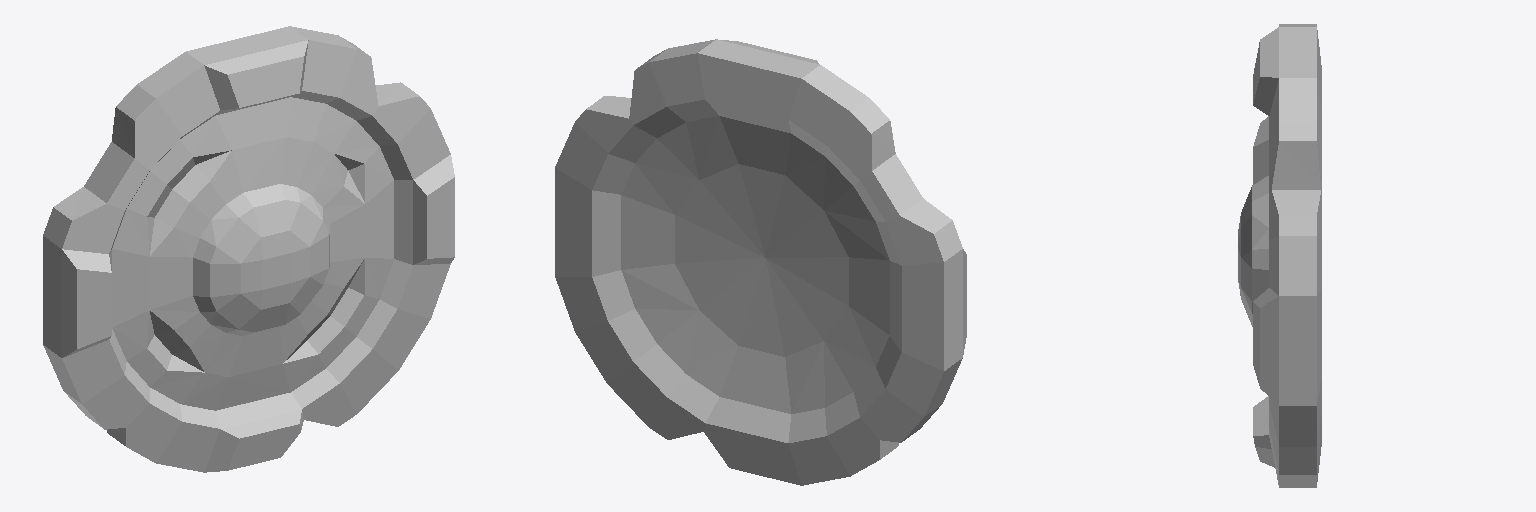
The model's file is Skeleton_Shield_Small_A.obj.
3 renders of one model, left to right at view 1: azimuth 30°, elevation 25°; view 2: azimuth 150°, elevation 25°; view 3: azimuth 270°, elevation 25°, orthographic.
Parts seen in each view (by area): view 1: Skeleton_Shield_Small_A_Cylinder.010; view 2: Skeleton_Shield_Small_A_Cylinder.010; view 3: Skeleton_Shield_Small_A_Cylinder.010.
Boxes of the visible parts, <box> form: Skeleton_Shield_Small_A_Cylinder.010: <box>43,26,454,472</box>; Skeleton_Shield_Small_A_Cylinder.010: <box>555,39,966,485</box>; Skeleton_Shield_Small_A_Cylinder.010: <box>1238,24,1321,487</box>.
Size of the model in its own units: 0.8322 by 0.8322 by 0.1565.